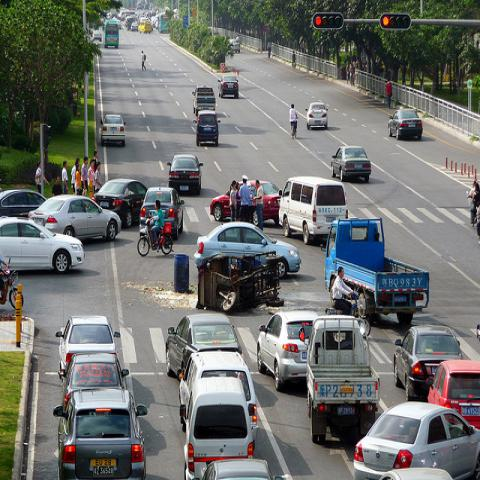bus: (103, 20, 119, 49), (158, 12, 168, 30)
car: (0, 33, 478, 310), (350, 399, 479, 479), (54, 385, 148, 475), (180, 375, 253, 480), (193, 220, 302, 278), (28, 194, 122, 241), (425, 359, 479, 428), (92, 177, 147, 228), (330, 145, 372, 183), (166, 154, 204, 194), (204, 456, 274, 475), (1, 190, 46, 218), (100, 115, 126, 148), (305, 102, 328, 130)
motorcycle: (137, 217, 174, 256), (351, 288, 372, 341), (0, 257, 18, 310)
truck: (305, 311, 382, 445), (325, 220, 431, 315), (193, 111, 221, 147), (193, 85, 216, 118)
